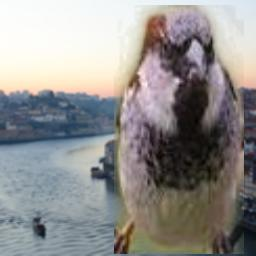Sparrow: (114, 5, 244, 254)
